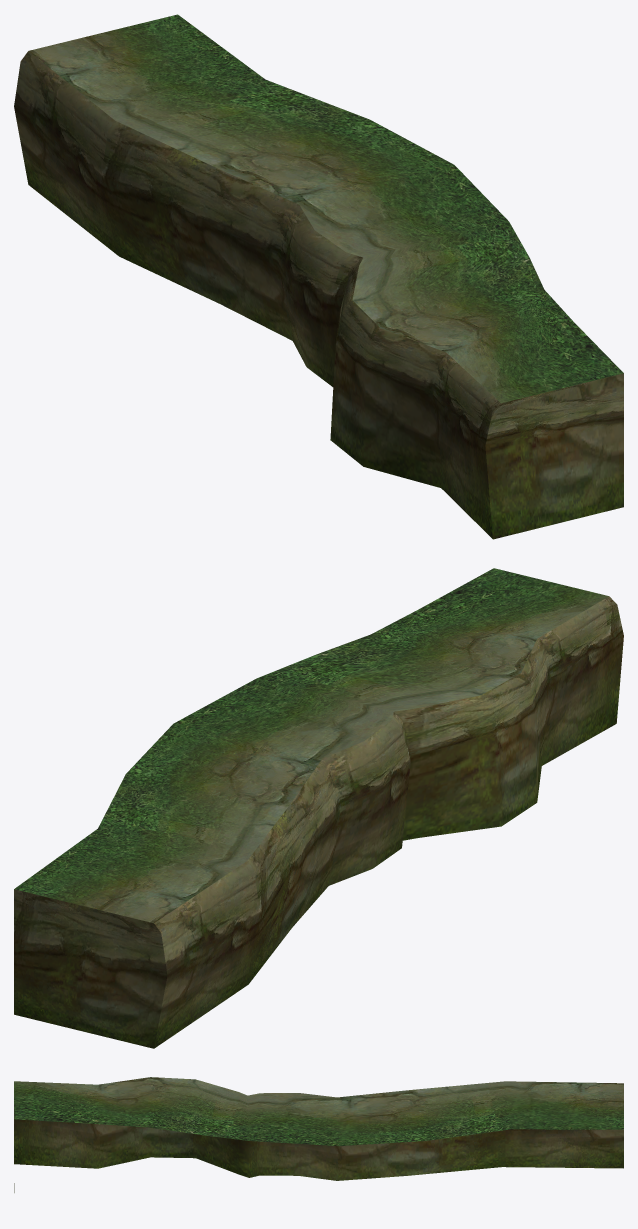
File: Dingqingchuan_wujian_08.FBX
3 views of the same model, one above another, from view 1: azimuth 30°, elevation 25°; view 2: azimuth 150°, elevation 25°; view 3: azimuth 270°, elevation 25° (orthographic). The views are drawn at different scales.
Parts seen in each view (by area): view 1: Object06; view 2: Object06; view 3: Object06.
Part boxes in pixels (x1,y1,x2,y2): Object06: [14, 14, 623, 539]; Object06: [14, 568, 623, 1048]; Object06: [14, 1077, 623, 1192].
Size of the model in its own units: 7.63 by 4.09 by 26.41.
